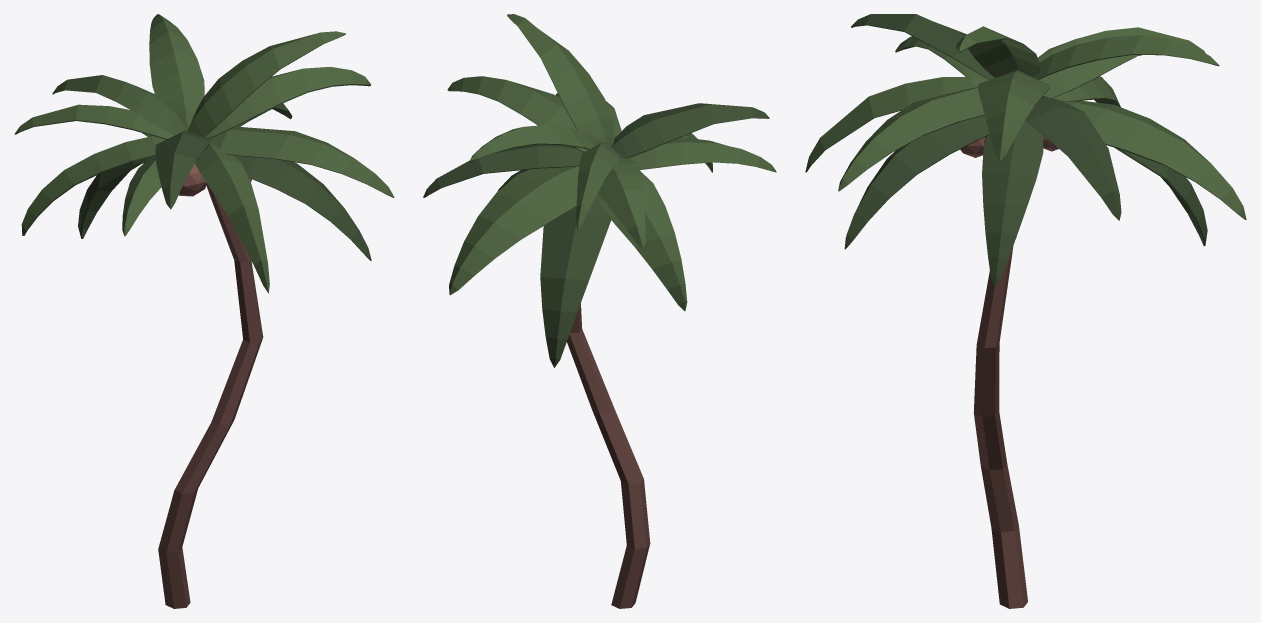
File: palmtree_4.gltf
The picture shows the model from 3 angles, left to right: view 1: azimuth 30°, elevation 25°; view 2: azimuth 150°, elevation 25°; view 3: azimuth 270°, elevation 25°; orthographic projection. The views are drawn at different scales.
Parts seen in each view (by area): view 1: palmtree_4; view 2: palmtree_4; view 3: palmtree_4.
Boxes of the visible parts, left/top/right/bottom form: palmtree_4: left=14, top=14, right=394, bottom=608; palmtree_4: left=423, top=14, right=776, bottom=608; palmtree_4: left=805, top=14, right=1246, bottom=608.
Size of the model in its own units: 1.81 by 3.25 by 2.05.
1 material, 1 textured.
